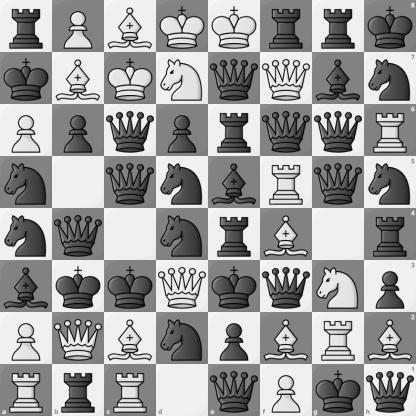B: (364, 312, 416, 364), (53, 53, 104, 104), (105, 1, 156, 52), (105, 313, 156, 364), (261, 209, 312, 260), (261, 313, 312, 364)
K: (105, 53, 156, 104), (157, 1, 208, 52), (209, 1, 260, 52)
N: (157, 53, 208, 104), (313, 261, 364, 312)
P: (260, 364, 312, 416), (1, 105, 52, 156), (1, 313, 52, 364), (53, 1, 104, 52)
Q: (53, 313, 104, 364), (157, 261, 208, 312), (261, 53, 312, 104)
R: (0, 364, 52, 416), (104, 364, 156, 416), (364, 104, 416, 156), (261, 157, 312, 208), (313, 313, 364, 364)
b: (1, 261, 52, 312), (209, 157, 260, 208), (313, 53, 364, 104)
board: (0, 0, 415, 415)
k: (312, 364, 364, 416), (364, 0, 416, 52), (1, 53, 52, 104), (53, 261, 104, 312), (105, 261, 156, 312), (209, 261, 260, 312)
n: (364, 156, 416, 209), (364, 52, 416, 104), (1, 157, 52, 208), (1, 209, 52, 260), (157, 157, 208, 208), (157, 209, 208, 260), (157, 313, 208, 364)
p: (364, 260, 416, 312), (53, 105, 104, 156), (157, 105, 208, 156), (209, 313, 260, 364)
q: (364, 364, 416, 416), (209, 364, 260, 416), (53, 209, 104, 260), (105, 105, 156, 156), (105, 157, 156, 208), (209, 53, 260, 104), (261, 105, 312, 156), (261, 261, 312, 312), (313, 105, 364, 156), (313, 157, 364, 208)
r: (52, 364, 104, 416), (364, 209, 416, 260), (1, 1, 52, 52), (209, 105, 260, 156), (209, 209, 260, 260), (261, 1, 312, 52), (313, 1, 364, 52)
